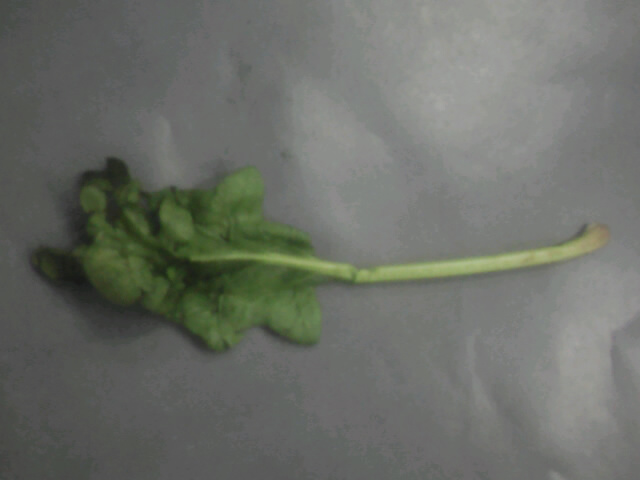yellow: (39, 136, 627, 364)
